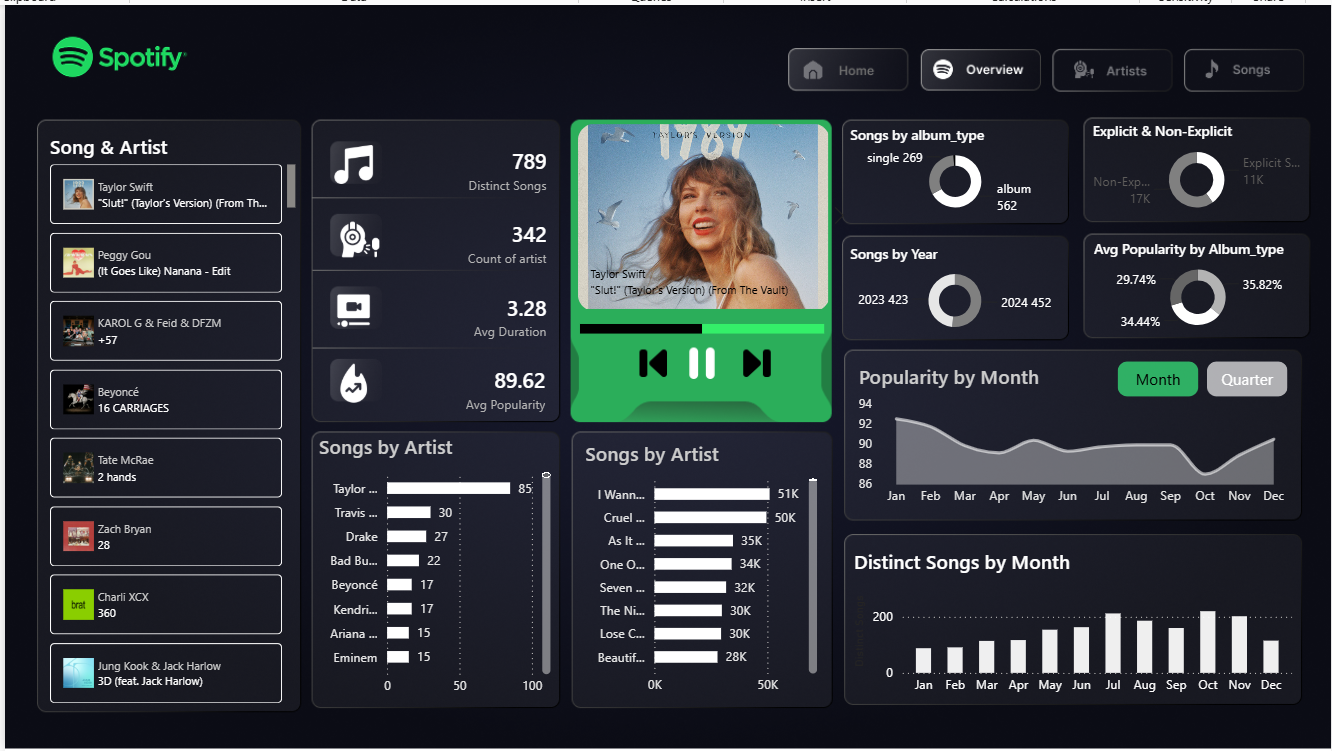

The dashboard page shown, as its layout file describes it:
{"tool":"powerbi","page":{"name":"Overview","canvas":[1280,720],"ordinal":1},"visuals":[{"type":"actionButton","box":[757.1,41.4,108.9,39.4],"z":0,"group":"g1"},{"type":"clusteredBarChart","title":"Songs by Artist","fields":{"Y":["_measures.Distinct Songs"],"Category":["Top-50-World.artist"]},"box":[297.5,413.8,233.8,261.2],"z":0},{"type":"actionButton","box":[883.8,41.4,108.9,39.4],"z":1000,"group":"g1"},{"type":"clusteredBarChart","title":"Songs by Artist","fields":{"Category":["Top-50-World.song"],"Y":["Sum(Top-50-World.popularity)"]},"box":[555,419.8,234,254.6],"z":1000},{"type":"actionButton","box":[1010.4,41.4,108.9,39.4],"z":2000,"group":"g1"},{"type":"areaChart","title":"Popularity by Month","fields":{"Category":["Top-50-World.Month"],"Y":["_measures.Avg Popularity"]},"box":[819,346.6,423.8,145.9],"z":2000},{"type":"actionButton","box":[1138.8,41.4,108.9,39.4],"z":3000,"group":"g1"},{"type":"advancedSlicerVisual","fields":{"Values":["Slicer_option.Slicer_option"]},"box":[1068.3,339.1,174.5,44.9],"z":3000},{"type":"donutChart","title":"Songs by album_type","fields":{"Y":["_measures.Distinct Songs"],"Category":["Top-50-World.album_type"]},"box":[810.5,116.3,213.2,91.6],"z":4000},{"type":"donutChart","title":"Explicit & Non-Explicit","fields":{"Y":["_measures.Explicit Songs","_measures.Non-Explicit Songs"]},"box":[1045.3,112.1,211.1,95.8],"z":5000},{"type":"donutChart","title":"Songs by Year","fields":{"Category":["Top-50-World.Year"],"Y":["_measures.Distinct Songs"]},"box":[811.2,230,212.5,92.5],"z":6000},{"type":"donutChart","title":"Avg Popularity by Album_type","fields":{"Y":["_measures.Avg Popularity"],"Category":["Top-50-World.album_type"]},"box":[1046.3,226.1,211.1,95.8],"z":7000},{"type":"clusteredColumnChart","fields":{"Category":["Top-50-World.Month"],"Y":["_measures.Distinct Songs"]},"box":[814.3,524.3,432.9,150],"z":8000},{"type":"cardVisual","fields":{"Data":["_measures.Avg Popularity"]},"box":[412.9,335.7,134.3,70],"z":9000},{"type":"cardVisual","fields":{"Data":["Count(Top-50-World.artist)"]},"box":[414.3,194.3,134.3,70],"z":10000},{"type":"cardVisual","fields":{"Data":["_measures.Avg Duration per Year"]},"box":[412.9,265.7,135.7,70],"z":11000},{"type":"cardVisual","fields":{"Data":["_measures.Distinct Songs"]},"box":[414.3,124.3,134.3,70],"z":12000},{"type":"image","box":[319.4,346.7,45.6,37.2],"z":13000},{"type":"image","box":[319.4,207.1,45.9,37.6],"z":14000},{"type":"image","box":[314.1,276.5,45.9,37.6],"z":15000},{"type":"image","box":[314.1,135.3,45.9,37.6],"z":16000},{"type":"advancedSlicerVisual","title":"Song & Artist","fields":{"Values":["Top-50-World.song"]},"box":[42.9,124.3,237.1,550],"z":17000},{"type":"advancedSlicerVisual","title":"Song & Artist","fields":{"Values":["Top-50-World.song"]},"box":[531.7,108.3,283.3,186.7],"z":18000},{"type":"hundredPercentStackedBarChart","fields":{"Y":["_measures.Avg Popularity","Avg(Top-50-World.popularity)"]},"box":[550,274.3,245.7,71.4],"z":19000},{"type":"image","box":[710.7,330.7,30,30],"z":20000},{"type":"image","box":[610,330,30,30],"z":21000},{"type":"image","box":[657.3,330.7,30,30],"z":22000},{"type":"shape","box":[550.1,112.2,247.3,287.1],"z":23000},{"type":"group","id":"g1","title":"Group 1","box":[757.1,41.4,490,40],"z":24000}]}

Visuals, with their boxes on the page's 1280x720 design canvas (x1, y1, x2, y2). These are canvas units, not pixel positions in the 1332x751 screenshot, which may show the page scaled, cropped or inside an application window:
actionButton: (757,41,866,81)
"Songs by Artist" clusteredBarChart: (298,414,531,675)
actionButton: (884,41,993,81)
"Songs by Artist" clusteredBarChart: (555,420,789,674)
actionButton: (1010,41,1119,81)
"Popularity by Month" areaChart: (819,347,1243,492)
actionButton: (1139,41,1248,81)
advancedSlicerVisual - Slicer_option.Slicer_option: (1068,339,1243,384)
"Songs by album_type" donutChart: (810,116,1024,208)
"Explicit & Non-Explicit" donutChart: (1045,112,1256,208)
"Songs by Year" donutChart: (811,230,1024,322)
"Avg Popularity by Album_type" donutChart: (1046,226,1257,322)
clusteredColumnChart - Top-50-World.Month x _measures.Distinct Songs: (814,524,1247,674)
cardVisual - _measures.Avg Popularity: (413,336,547,406)
cardVisual - Count(Top-50-World.artist): (414,194,549,264)
cardVisual - _measures.Avg Duration per Year: (413,266,549,336)
cardVisual - _measures.Distinct Songs: (414,124,549,194)
image: (319,347,365,384)
image: (319,207,365,245)
image: (314,276,360,314)
image: (314,135,360,173)
"Song & Artist" advancedSlicerVisual: (43,124,280,674)
"Song & Artist" advancedSlicerVisual: (532,108,815,295)
hundredPercentStackedBarChart - _measures.Avg Popularity x Avg(Top-50-World.popularity): (550,274,796,346)
image: (711,331,741,361)
image: (610,330,640,360)
image: (657,331,687,361)
shape: (550,112,797,399)
"Group 1" group: (757,41,1247,81)
